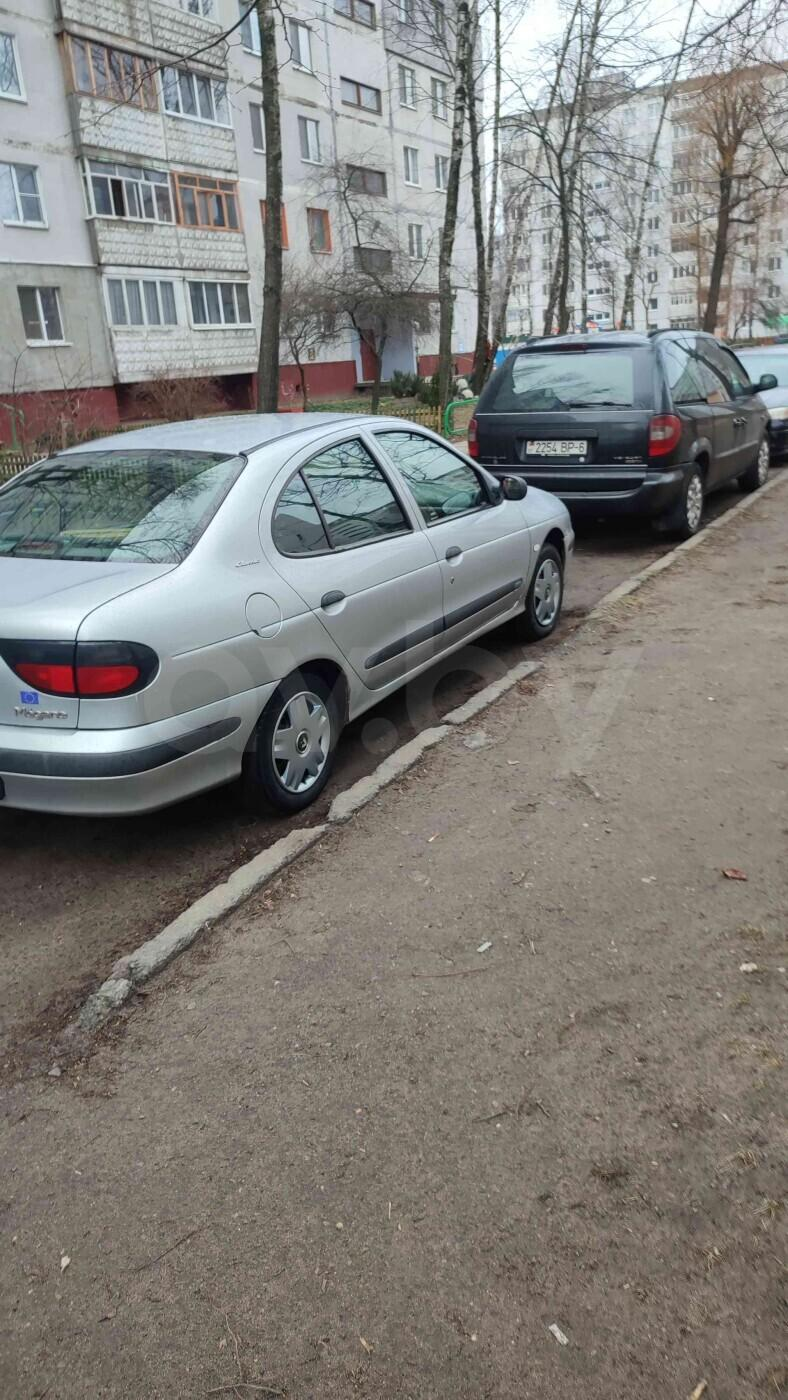Megane_1995-1999: (0, 408, 582, 880)
